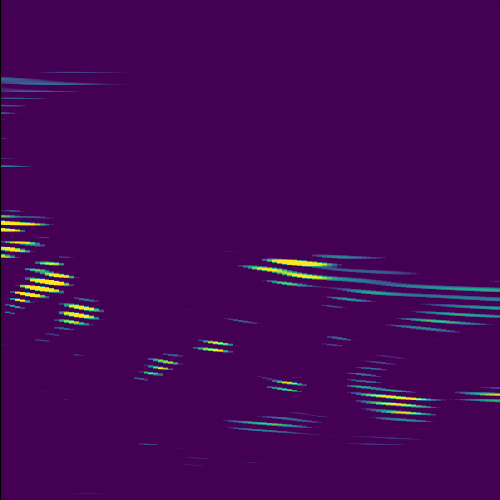semblance: (1, 258, 76, 318), (1, 210, 53, 266), (53, 297, 105, 333)
